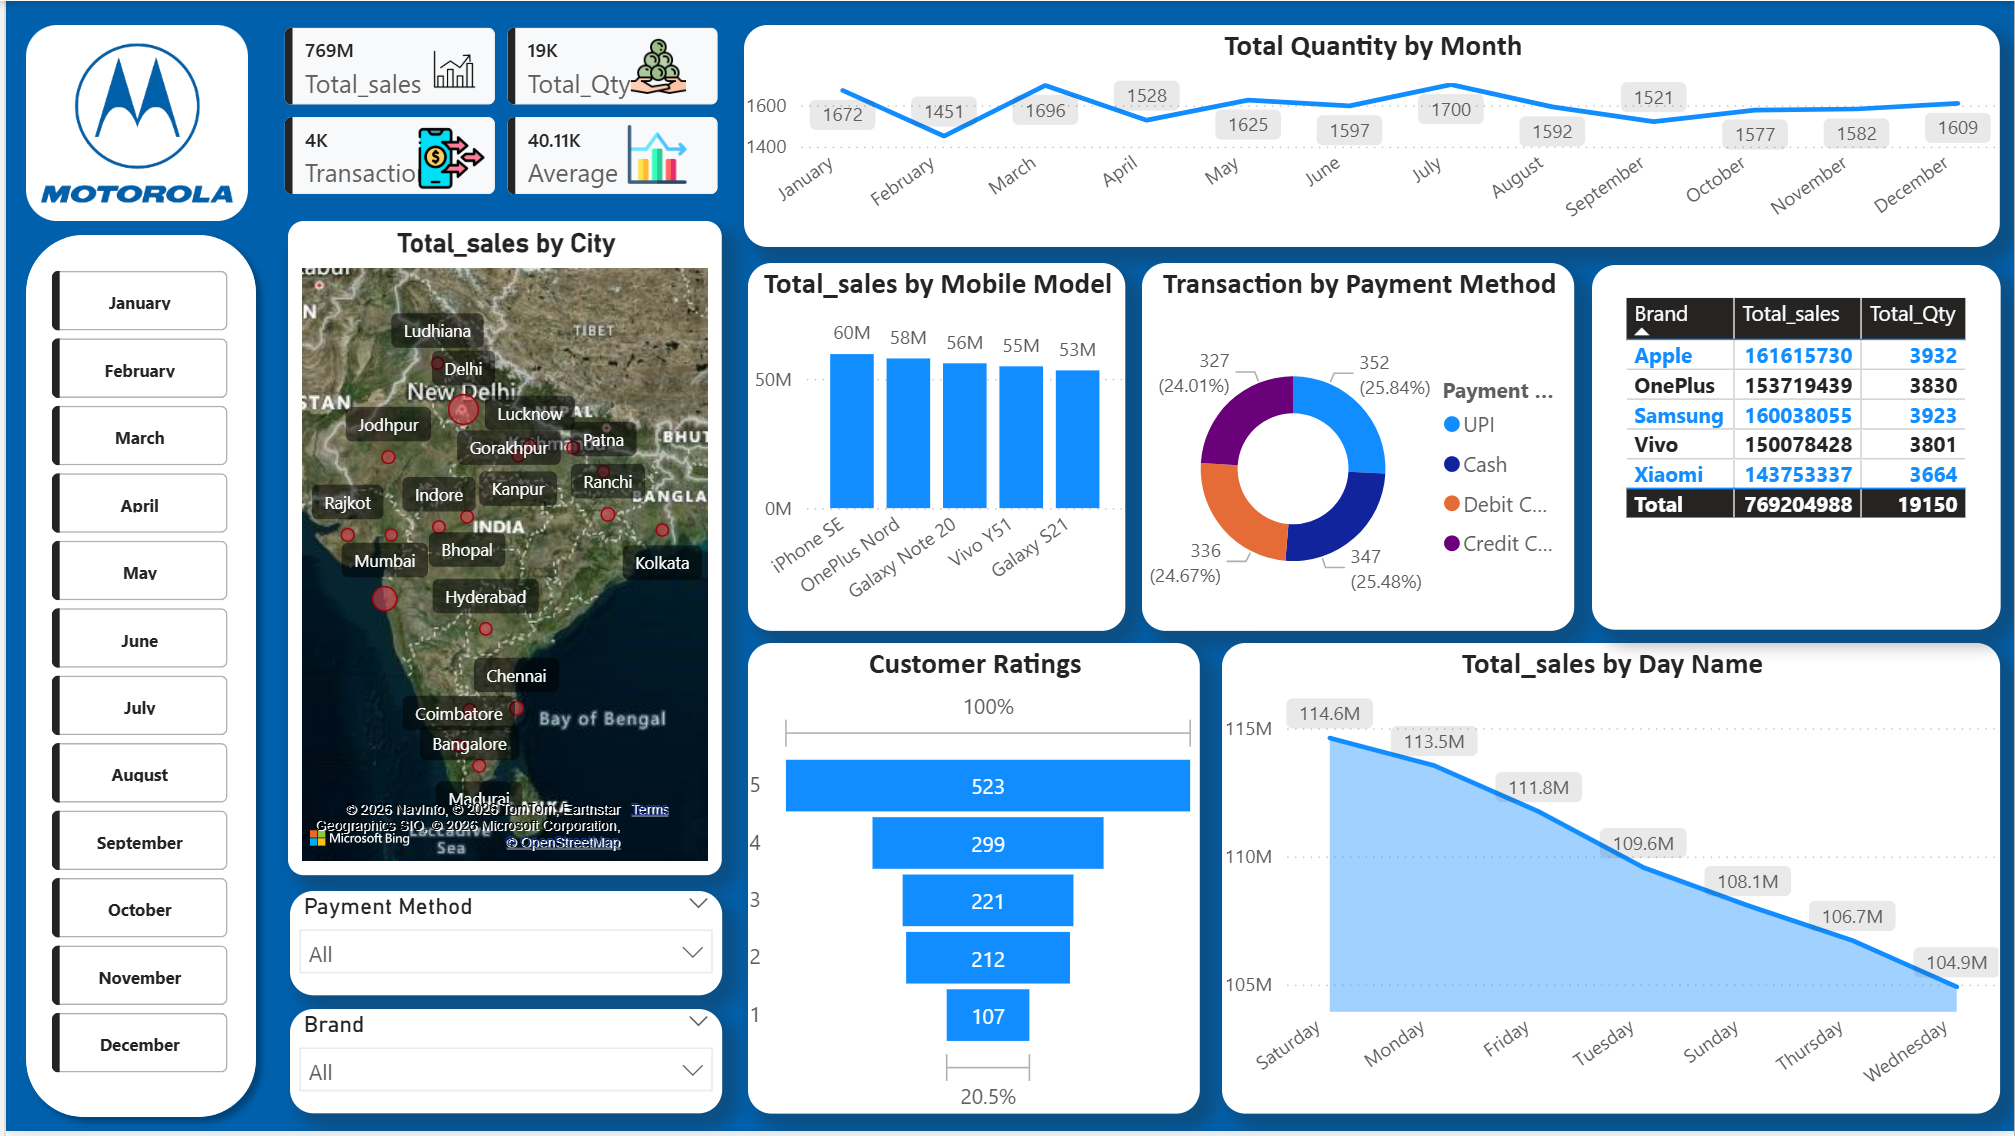

The dashboard page shown, as its layout file describes it:
{"tool":"powerbi","page":{"name":"Page 1","canvas":[1280,720],"ordinal":0},"visuals":[{"type":"cardVisual","fields":{"Data":["Sales_data.Total_sales","Sales_data.Total_Qty","Sales_data.Transaction","Sales_data.Average"]},"box":[160.9,0,311.1,140.2],"z":0,"group":"g1"},{"type":"image","box":[12.7,15.3,141.5,124.9],"z":0},{"type":"image","box":[256.7,26.7,59.7,33.6],"z":1000,"group":"g1"},{"type":"shape","box":[3.8,140.2,164.5,580.1],"z":1000},{"type":"image","box":[390.8,22.7,51.8,37.5],"z":2000,"group":"g1"},{"type":"advancedSlicerVisual","fields":{"Values":["Sales_data.Date.Variation.Date Hierarchy.Month"]},"box":[24.2,167,122.4,530.4],"z":2000},{"type":"image","box":[257.8,79,53,42.5],"z":3000,"group":"g1"},{"type":"map","fields":{"Category":["Sales_data.City"],"Size":["Sales_data.Total_sales"]},"box":[179.8,140.2,276.7,416.9],"z":3000},{"type":"group","id":"g1","title":"Group 1","box":[160.9,0,311.1,140.2],"z":4000},{"type":"image","box":[389.7,79,53,37.5],"z":4000,"group":"g1"},{"type":"lineChart","title":"Total Quantity by Month","fields":{"Y":["Sum(Sales_data.Units Sold)"],"Category":["Sales_data.Date.Variation.Date Hierarchy.Year","Sales_data.Date.Variation.Date Hierarchy.Quarter","Sales_data.Date.Variation.Date Hierarchy.Month","Sales_data.Date.Variation.Date Hierarchy.Day"]},"box":[470.4,15.3,800.6,141.5],"z":5000},{"type":"clusteredColumnChart","fields":{"Category":["Sales_data.Mobile Model"],"Y":["Sales_data.Total_sales"]},"box":[473.1,166.9,240.4,234.3],"z":6000},{"type":"slicer","fields":{"Values":["Sales_data.Payment Method"]},"box":[181,567.3,275.4,66.3],"z":7000},{"type":"slicer","fields":{"Values":["Sales_data.Brand"]},"box":[181,642.5,275.4,66.3],"z":8000},{"type":"donutChart","title":"Transaction by Payment Method","fields":{"Category":["Sales_data.Payment Method"],"Y":["CountNonNull(Sales_data.Transaction ID)"]},"box":[724.2,166.9,275.6,234.3],"z":9000},{"type":"funnel","title":"Customer Ratings","fields":{"Category":["Sales_data.Customer Ratings"],"Y":["CountNonNull(Sales_data.Customer Ratings)"]},"box":[473.1,408.8,287.8,300.1],"z":10000},{"type":"areaChart","fields":{"Category":["Sales_data.Day Name"],"Y":["Sales_data.Total_sales"]},"box":[774.7,408.8,496.1,300.1],"z":11000},{"type":"tableEx","fields":{"Values":["Sales_data.Brand","Sales_data.Total_sales","Sales_data.Total_Qty"]},"box":[1010.5,168.4,260.3,232.7],"z":12000}]}

Visuals, with their boxes in screenshot pixels (x1, y1, x2, y2), scaled from the page's 1280x720 canvas onto the 2015x1136 screenshot:
cardVisual - Sales_data.Total_sales x Sales_data.Total_Qty: rect(253, 0, 743, 221)
image: rect(20, 24, 243, 221)
image: rect(404, 42, 498, 95)
shape: rect(6, 221, 265, 1135)
image: rect(615, 36, 697, 95)
advancedSlicerVisual - Sales_data.Date.Variation.Date Hierarchy.Month: rect(38, 263, 231, 1100)
image: rect(406, 125, 489, 192)
map - Sales_data.City x Sales_data.Total_sales: rect(283, 221, 719, 879)
"Group 1" group: rect(253, 0, 743, 221)
image: rect(613, 125, 697, 184)
"Total Quantity by Month" lineChart: rect(741, 24, 2001, 247)
clusteredColumnChart - Sales_data.Mobile Model x Sales_data.Total_sales: rect(745, 263, 1123, 633)
slicer - Sales_data.Payment Method: rect(285, 895, 718, 1000)
slicer - Sales_data.Brand: rect(285, 1014, 718, 1118)
"Transaction by Payment Method" donutChart: rect(1140, 263, 1574, 633)
"Customer Ratings" funnel: rect(745, 645, 1198, 1118)
areaChart - Sales_data.Day Name x Sales_data.Total_sales: rect(1220, 645, 2001, 1118)
tableEx - Sales_data.Brand x Sales_data.Total_sales: rect(1591, 266, 2001, 633)
